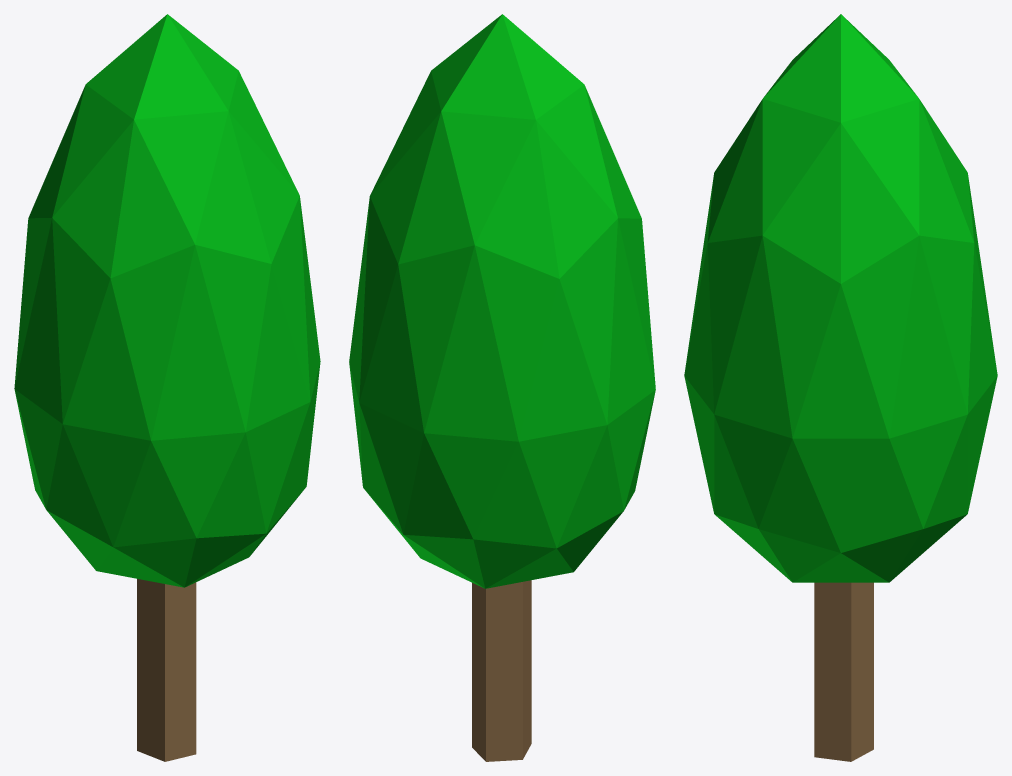
Rendered from tree.fbx.
The picture shows the model from 3 angles, left to right: view 1: azimuth 30°, elevation 25°; view 2: azimuth 150°, elevation 25°; view 3: azimuth 270°, elevation 25°; orthographic projection.
Parts seen in each view (by area): view 1: Circle.001, Circle; view 2: Circle.001, Circle; view 3: Circle.001, Circle.
Boxes of the visible parts, box(x1,y1,x2,y2) form: Circle.001: box(14, 14, 320, 587); Circle: box(137, 579, 196, 761); Circle.001: box(349, 14, 655, 588); Circle: box(472, 580, 531, 761); Circle.001: box(684, 14, 997, 582); Circle: box(814, 582, 873, 761).
Bounding box in the file's own units: 290 × 789 × 305.
